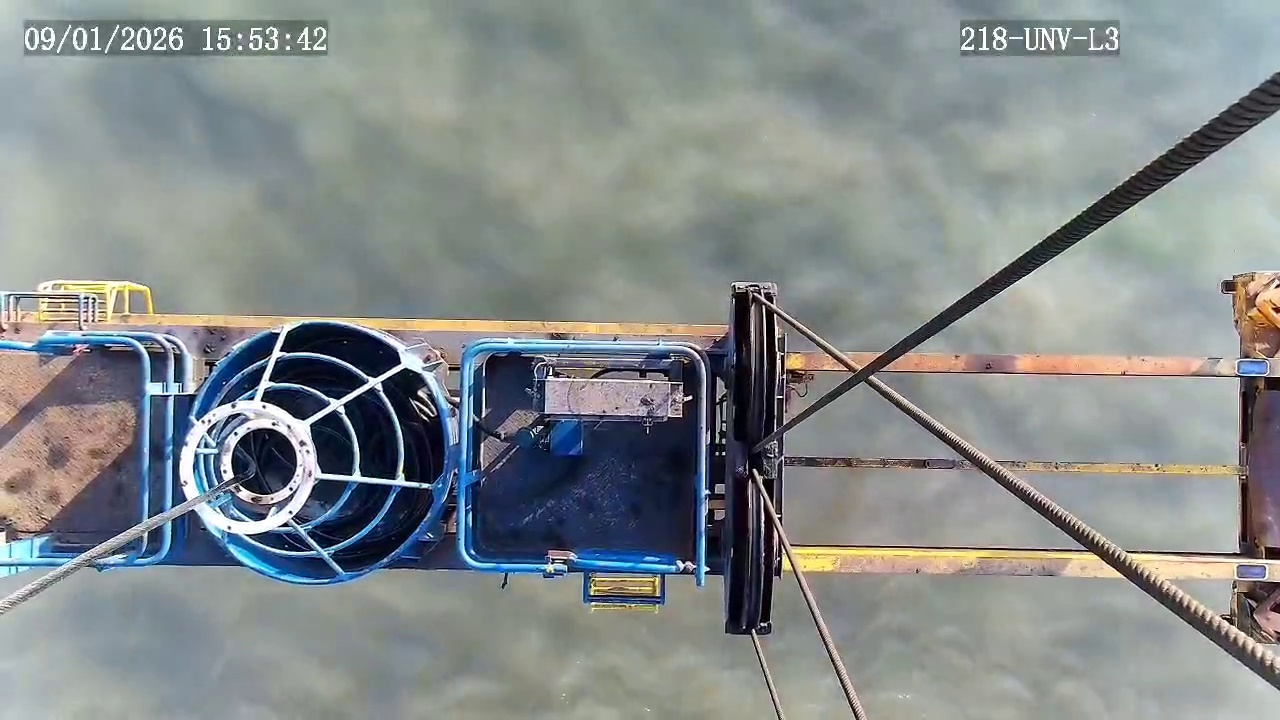right: (185, 322, 451, 584)
